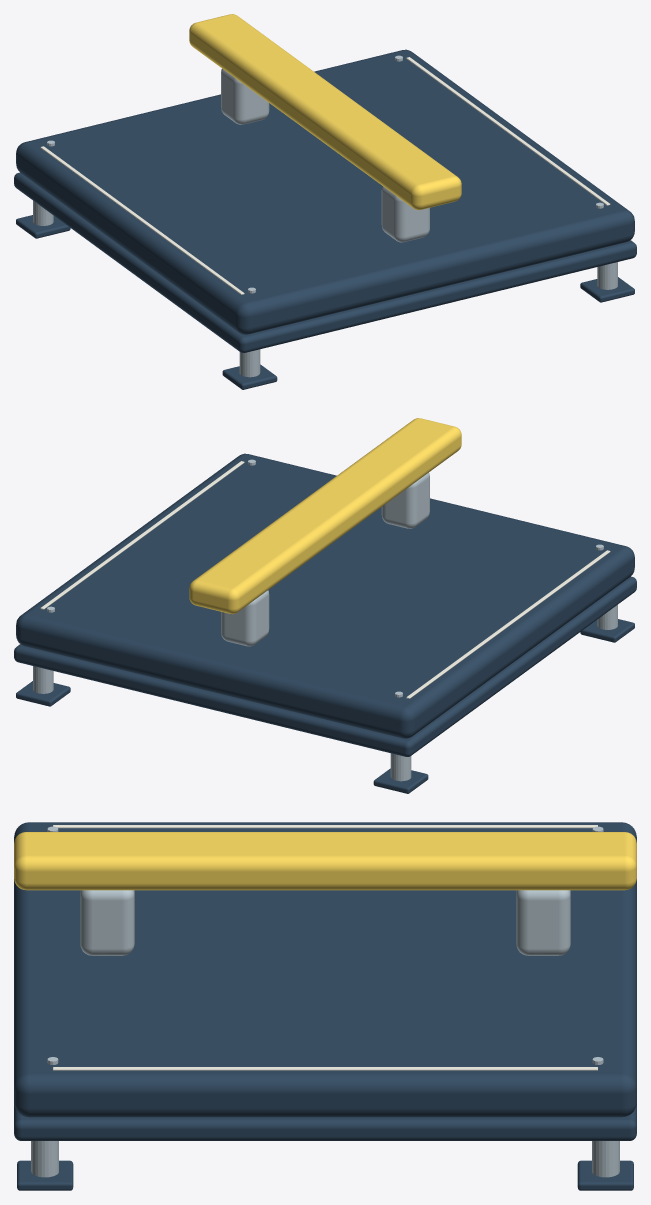
The model's file is party-obstacle-course-party-obstacle-course-balance-be-51149d66__28931.glb.
The picture shows the model from 3 angles, top to bottom: view 1: azimuth 30°, elevation 25°; view 2: azimuth 150°, elevation 25°; view 3: azimuth 270°, elevation 25°; orthographic projection. The views are drawn at different scales.
Visible parts, largest first — view 1: party-obstacle-course-balance-beam; view 2: party-obstacle-course-balance-beam; view 3: party-obstacle-course-balance-beam.
Part boxes in pixels (x1,y1,x2,y2): party-obstacle-course-balance-beam: [14, 14, 636, 389]; party-obstacle-course-balance-beam: [14, 418, 636, 793]; party-obstacle-course-balance-beam: [14, 822, 636, 1190].
Bounding box in the file's own units: 4 × 1.54 × 4.
